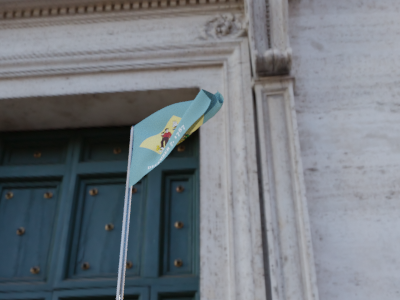Delaware flag: (128, 89, 223, 189)
